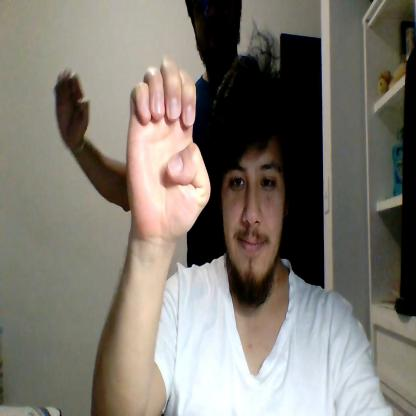E: (127, 57, 210, 237)
